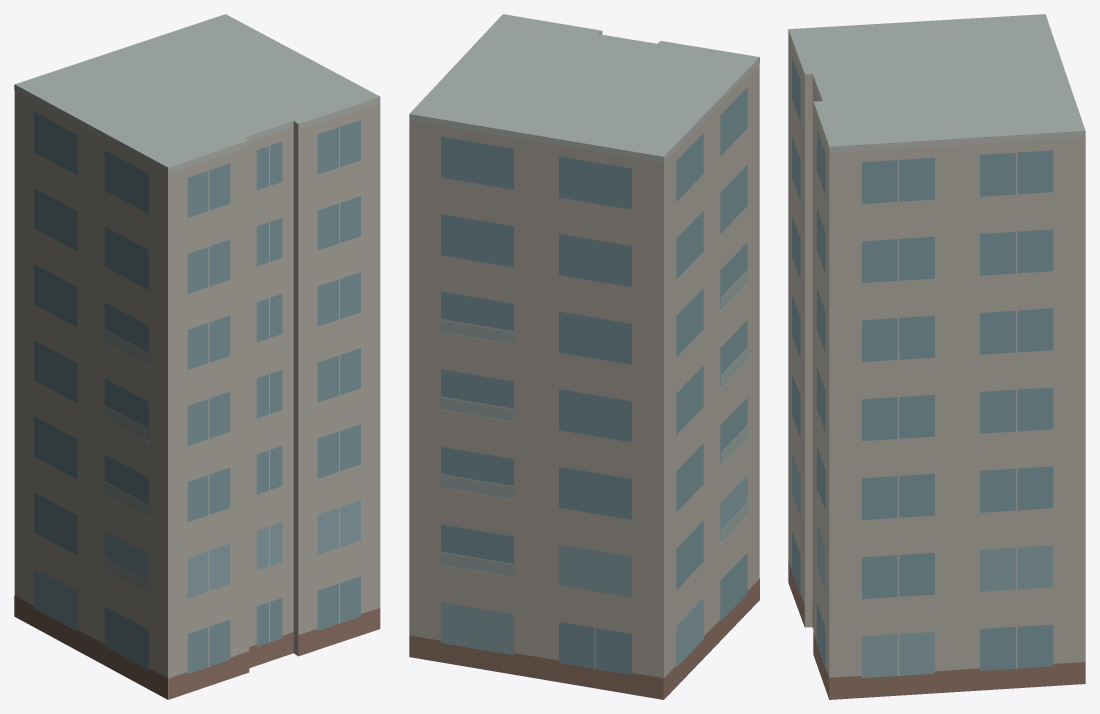
Rendered from survey-upis-32742643.glb.
3 views of the same model, side by side, from view 1: azimuth 30°, elevation 25°; view 2: azimuth 150°, elevation 25°; view 3: azimuth 270°, elevation 25° (orthographic). The views are drawn at different scales.
Parts seen in each view (by area): view 1: survey-upis-32742643.tmp; view 2: survey-upis-32742643.tmp; view 3: survey-upis-32742643.tmp.
Part boxes in pixels (bbox=[...]): survey-upis-32742643.tmp: bbox=[14, 14, 380, 699]; survey-upis-32742643.tmp: bbox=[409, 14, 759, 699]; survey-upis-32742643.tmp: bbox=[788, 14, 1085, 699].
Size of the model in its own units: 10.82 by 21 by 10.24.
